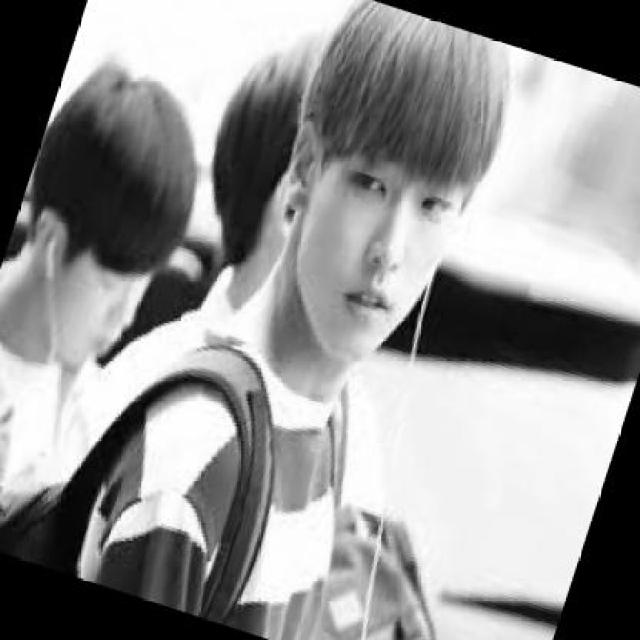earphone: (40, 227, 90, 367)
